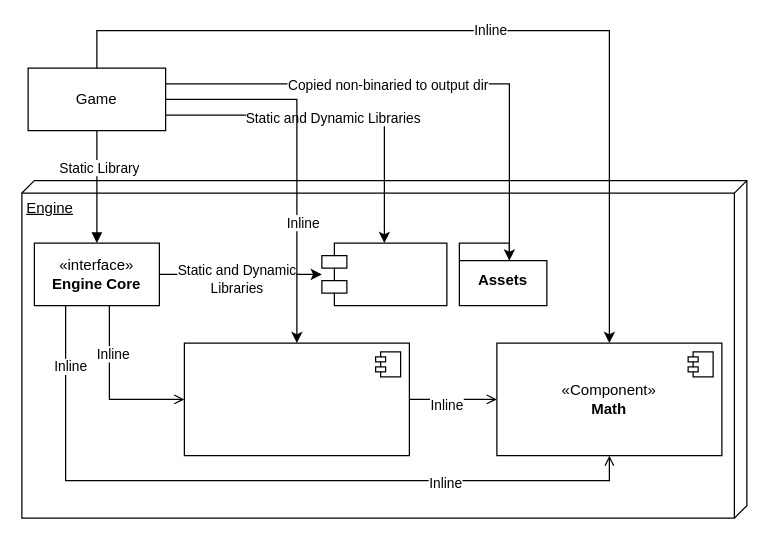
This 769x540 diagram has some shape labels left out. Each missing label, with the box of its shape:
Third Party Dependencies: (321, 242, 447, 306)
«Component» ECS: (183, 342, 409, 456)
